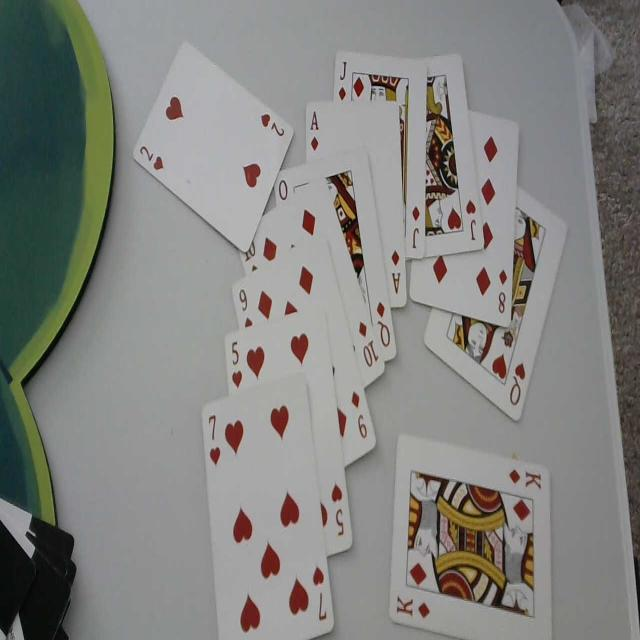10D: (356, 317, 379, 369)
2H: (259, 108, 285, 138), (141, 143, 165, 173)
5H: (330, 477, 346, 538), (230, 340, 242, 390)
7H: (312, 564, 327, 622), (206, 414, 222, 466)
8D: (498, 263, 508, 317)
9D: (350, 388, 370, 439)
AD: (390, 249, 402, 296), (309, 108, 320, 152)
JD: (411, 204, 421, 250), (337, 61, 348, 100)
JH: (465, 199, 477, 243)
KD: (396, 592, 432, 619), (508, 467, 546, 489)
QD: (376, 300, 390, 350)
QH: (510, 359, 526, 406)
